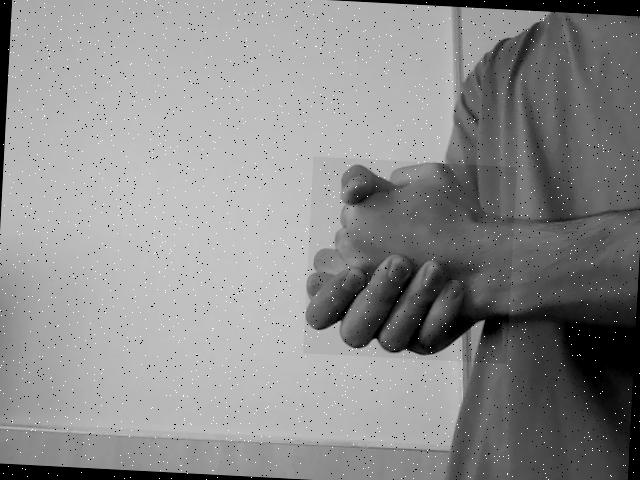friend: (306, 162, 514, 358)
